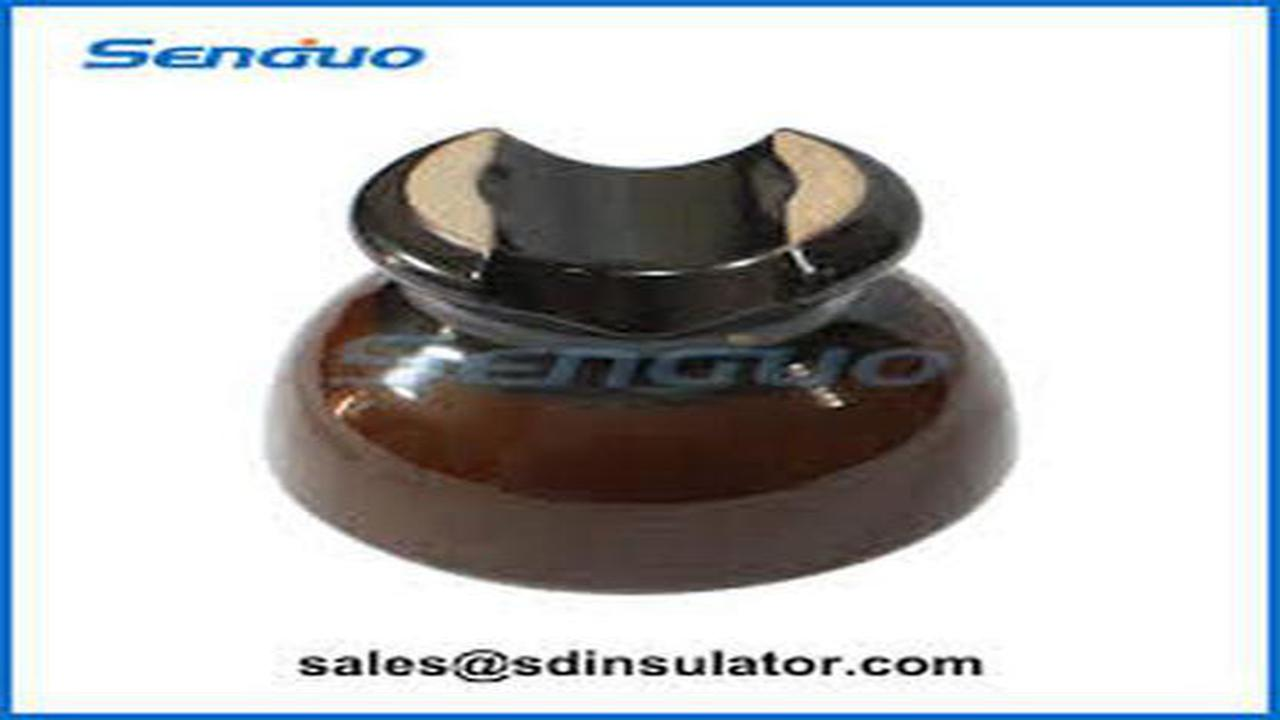insulator_pin: (250, 118, 1037, 605)
